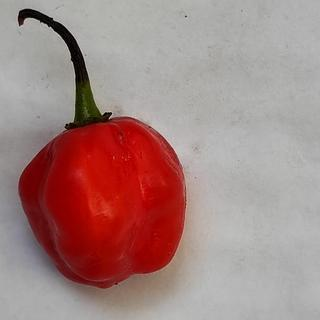Grade-B: (17, 113, 191, 291)
